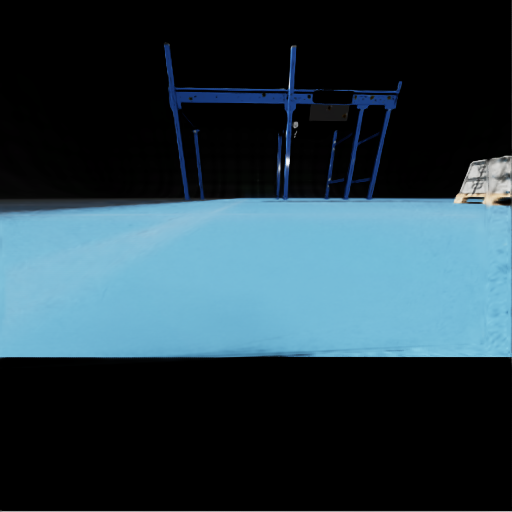transportation_area: (494, 175, 511, 193), (476, 159, 487, 185), (471, 187, 475, 196)
